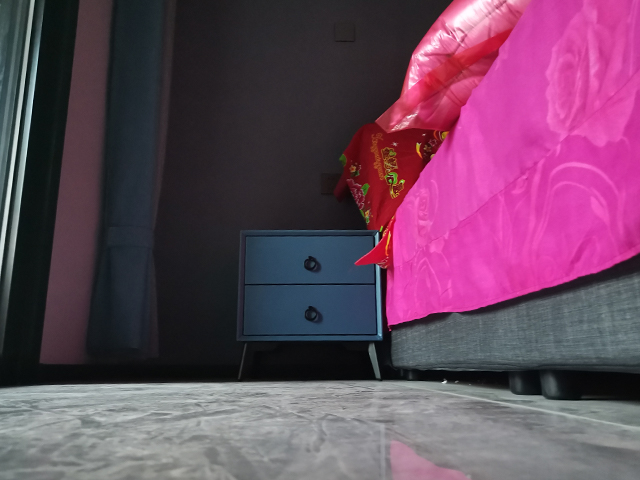bed: (345, 1, 640, 407)
cabinet: (231, 228, 386, 383)
curtain: (84, 1, 180, 365)
